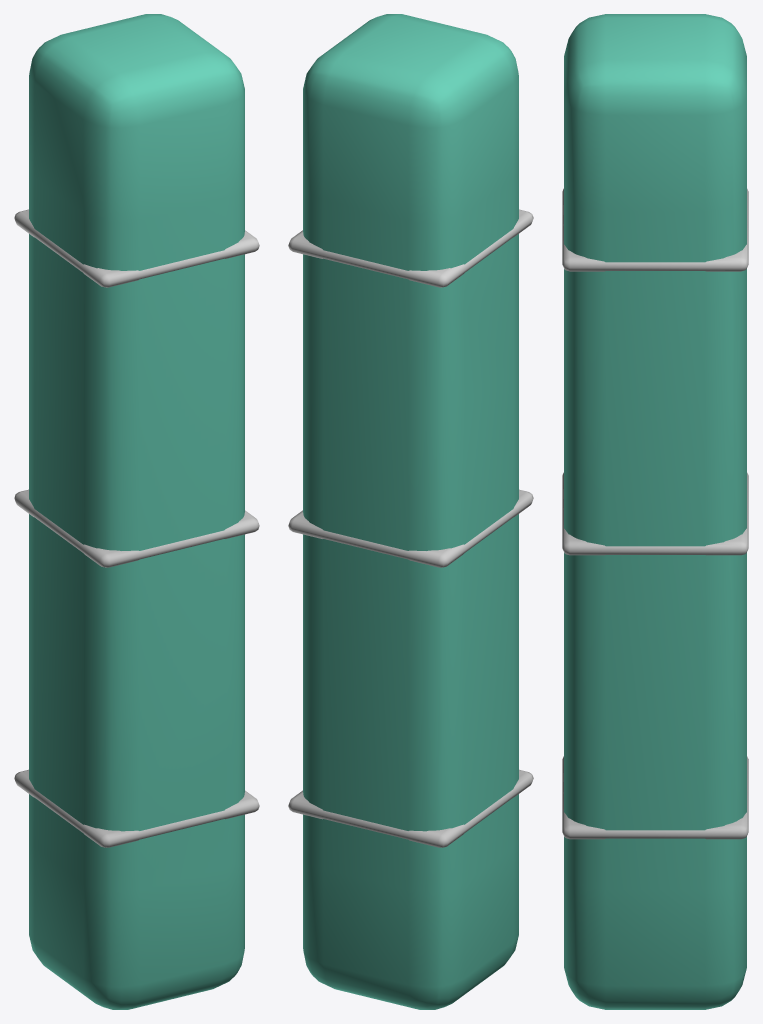
Rendered from arch_post.glb.
3 views of the same model, side by side, from view 1: azimuth 30°, elevation 25°; view 2: azimuth 150°, elevation 25°; view 3: azimuth 270°, elevation 25° (orthographic).
Visible parts, largest first — view 1: arch_post; view 2: arch_post; view 3: arch_post.
Part boxes in pixels (x1,y1,x2,y2): arch_post: (14,14,259,1009); arch_post: (288,14,533,1009); arch_post: (562,14,748,1009).
Bounding box in the file's own units: 1.43 × 8 × 1.43.
